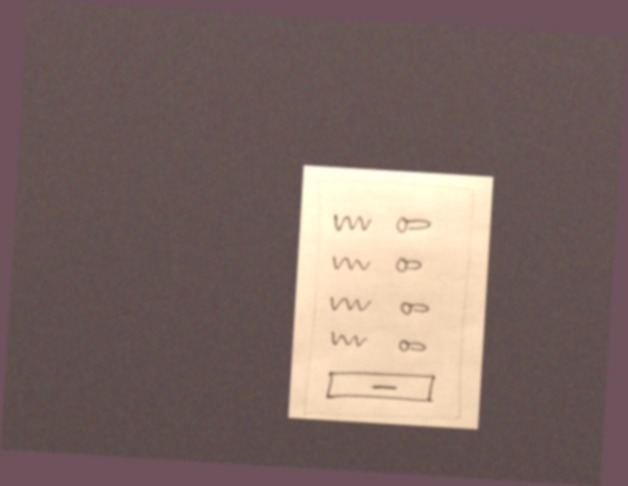button: (322, 367, 445, 407)
switch: (393, 212, 434, 237), (389, 255, 430, 278), (394, 335, 433, 358), (395, 298, 435, 320)
text: (325, 292, 375, 317), (323, 327, 371, 353), (330, 211, 376, 235), (328, 253, 374, 277)
